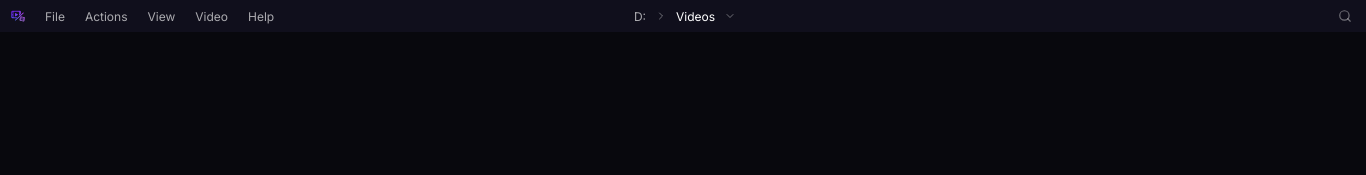
Test: TitleBar › the location in the centre opens its menu
The width and height of the screenshot is (1366, 175).
What coordinates should you click on to do the following:
click the button "Videos"
I would click on:
 (696, 16)
Its box is [670,4,721,28].
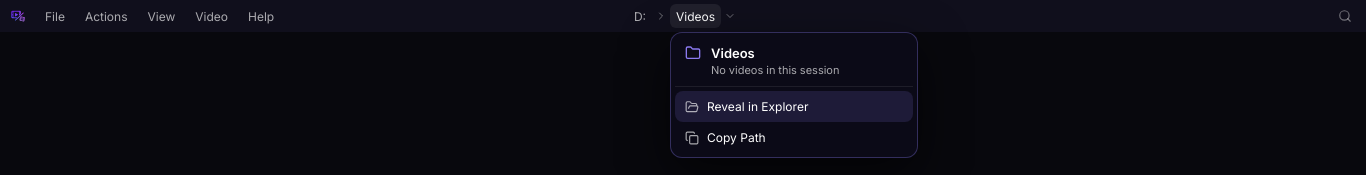
Expected: the menu "Videos" shows "No videos in this session", [711,63,839,77]
